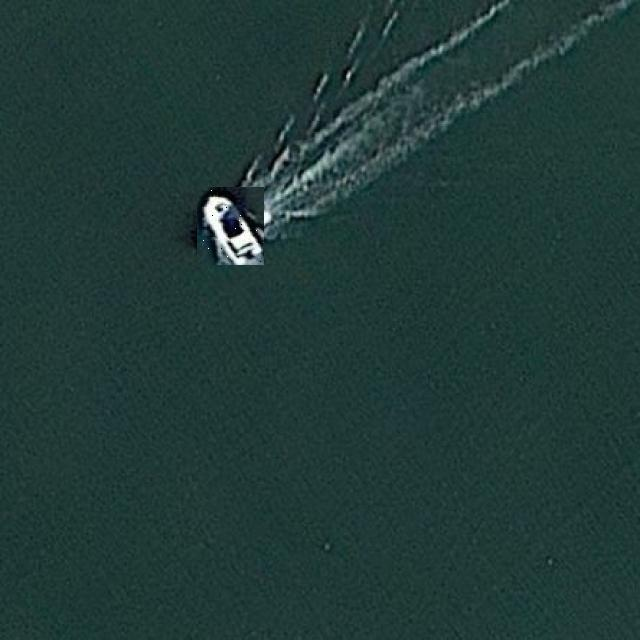boat: (194, 190, 267, 262)
